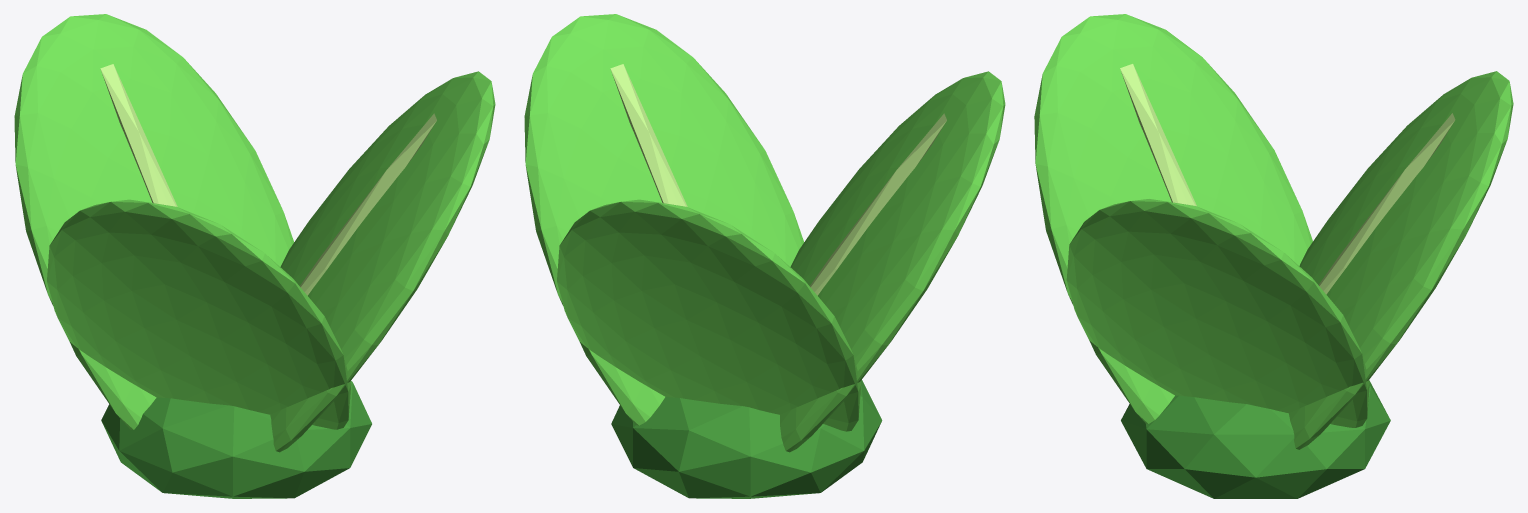
Rendered from SproutLeaves.obj.
The picture shows the model from 3 angles, left to right: view 1: azimuth 30°, elevation 25°; view 2: azimuth 150°, elevation 25°; view 3: azimuth 270°, elevation 25°; orthographic projection.
Parts seen in each view (by area): view 1: SproutLeaves_SproutLeaf, SproutLeaves_SproutHub, SproutLeaves_SproutVein; view 2: SproutLeaves_SproutLeaf, SproutLeaves_SproutHub, SproutLeaves_SproutVein; view 3: SproutLeaves_SproutLeaf, SproutLeaves_SproutHub, SproutLeaves_SproutVein.
Part boxes in pixels (x1,y1,x2,y2): SproutLeaves_SproutLeaf: [14, 14, 495, 452]; SproutLeaves_SproutHub: [101, 381, 371, 498]; SproutLeaves_SproutVein: [100, 64, 436, 295]; SproutLeaves_SproutLeaf: [524, 14, 1005, 452]; SproutLeaves_SproutHub: [611, 380, 882, 498]; SproutLeaves_SproutVein: [610, 64, 946, 295]; SproutLeaves_SproutLeaf: [1034, 14, 1513, 449]; SproutLeaves_SproutHub: [1121, 380, 1390, 498]; SproutLeaves_SproutVein: [1120, 64, 1455, 294].
Bounding box in the file's own units: 3.4 × 2.8 × 3.34.
